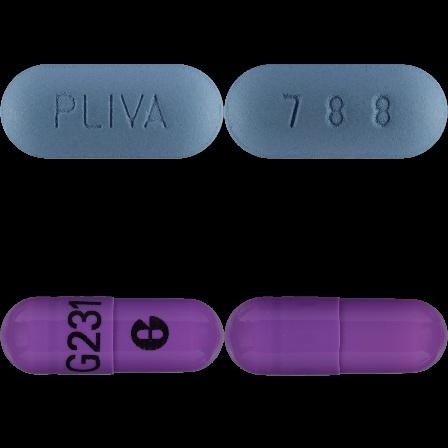68788-9311: (0, 0, 224, 224)
